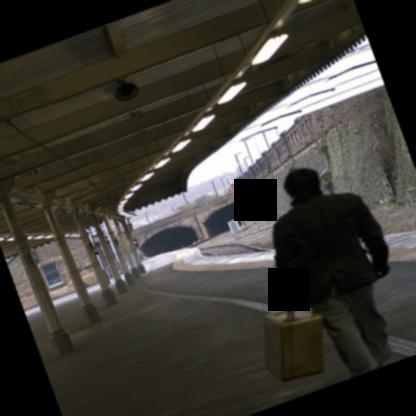suitcase: (264, 304, 325, 381)
